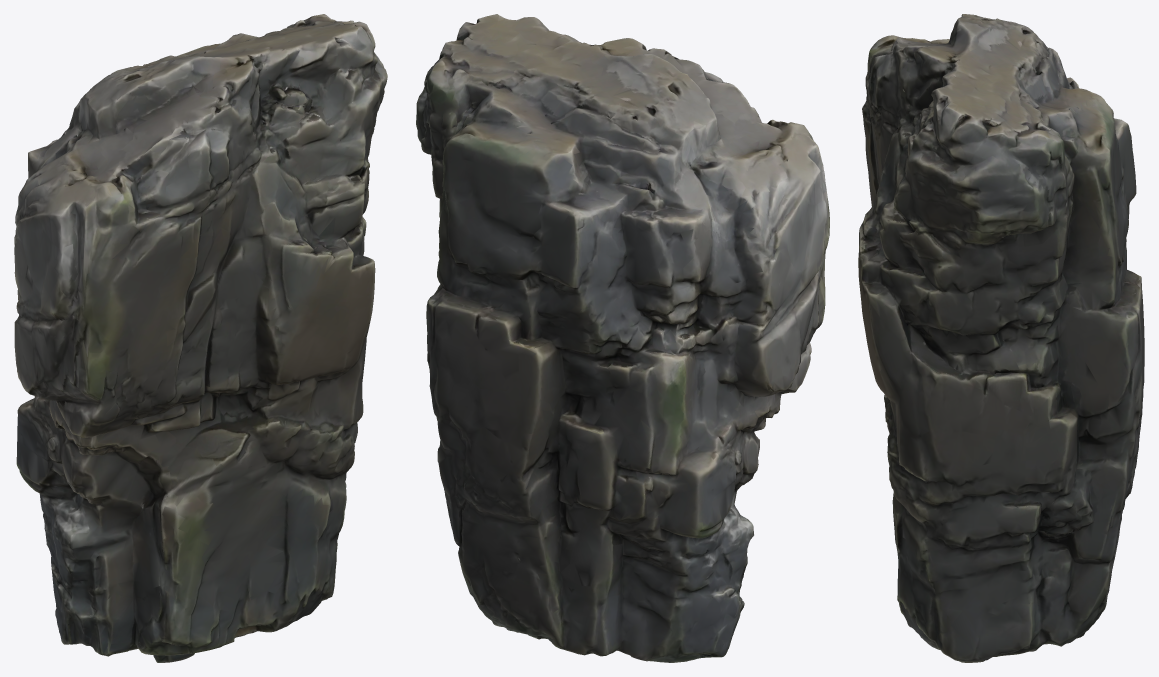
The model's file is Stone.glb.
The picture shows the model from 3 angles, left to right: view 1: azimuth 30°, elevation 25°; view 2: azimuth 150°, elevation 25°; view 3: azimuth 270°, elevation 25°; orthographic projection. The views are drawn at different scales.
Visible parts, largest first — view 1: Stone; view 2: Stone; view 3: Stone.
Boxes of the visible parts, bbox=[...] form: Stone: bbox=[14, 14, 387, 662]; Stone: bbox=[416, 14, 829, 662]; Stone: bbox=[858, 14, 1144, 662].
Bounding box in the file's own units: 1.19 × 1.9 × 0.8196.
1 material, 1 textured.
